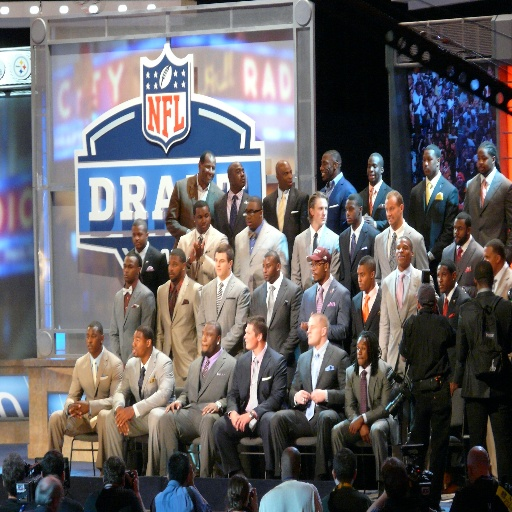hand: (123, 465, 140, 498), (190, 234, 206, 261), (67, 400, 88, 420), (114, 407, 134, 426), (233, 412, 249, 435), (199, 401, 220, 418), (163, 398, 183, 415), (348, 416, 363, 438), (358, 423, 372, 446), (294, 389, 310, 408), (69, 403, 84, 423), (190, 242, 203, 265), (184, 461, 195, 485), (310, 389, 326, 405), (249, 486, 257, 511), (448, 382, 458, 398), (230, 412, 240, 426)
